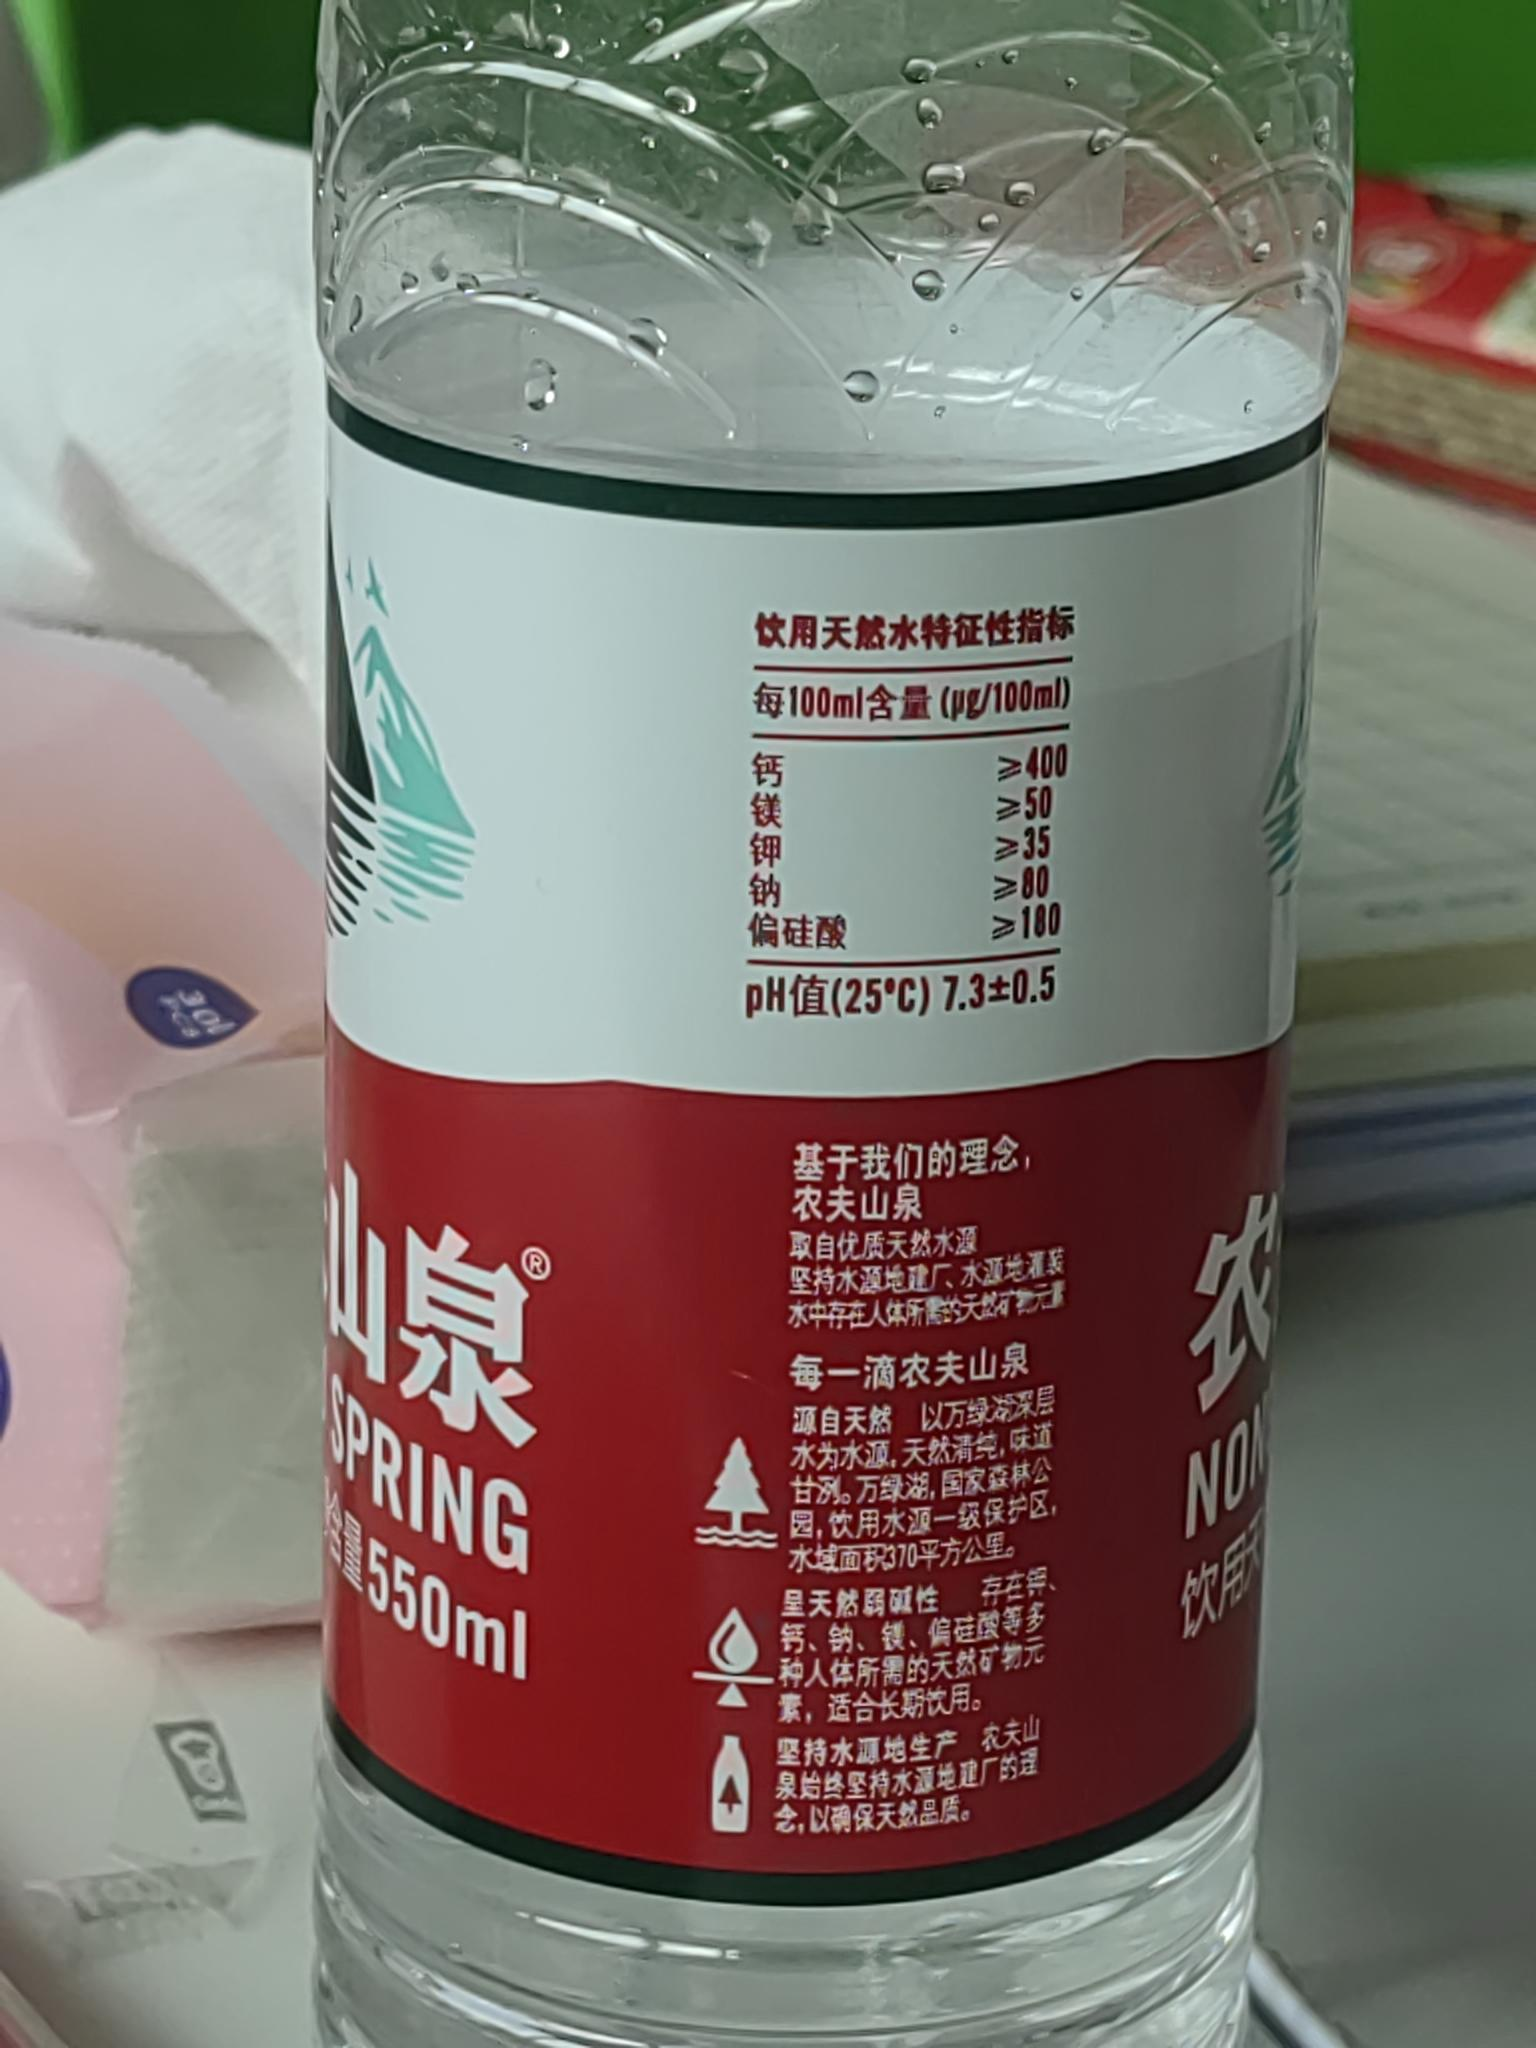plastic: (316, 0, 1350, 2046)
